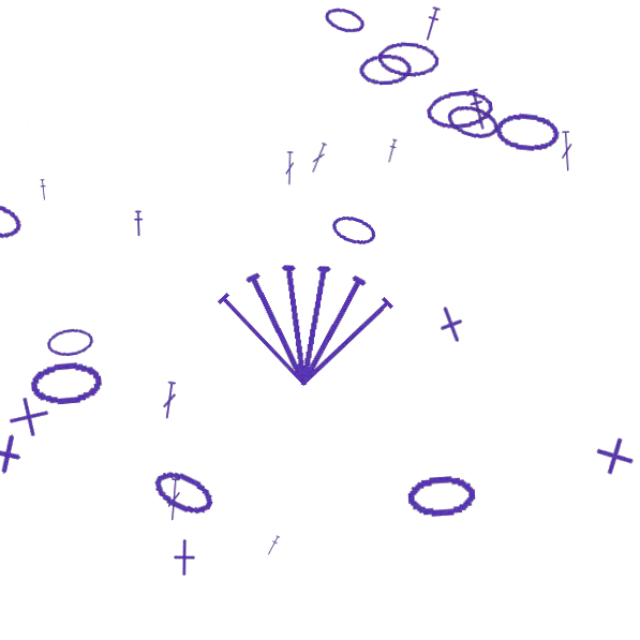chain: (172, 455, 239, 510), (61, 358, 131, 402), (413, 464, 481, 508), (431, 104, 496, 147), (495, 126, 559, 167), (1, 207, 59, 250), (448, 116, 504, 158), (386, 60, 445, 97), (341, 220, 389, 256), (369, 72, 419, 103), (77, 327, 124, 357), (335, 26, 377, 58)
double: (189, 469, 205, 509), (322, 155, 342, 186), (185, 378, 201, 415), (556, 145, 571, 183), (300, 164, 310, 196)
fan: (232, 253, 407, 386)
half_double: (469, 104, 493, 146), (427, 28, 448, 63), (394, 152, 407, 176), (282, 522, 297, 542), (159, 219, 169, 244), (71, 190, 80, 210)
single: (35, 385, 88, 438), (584, 424, 632, 472), (18, 423, 65, 470), (432, 302, 479, 349), (189, 525, 225, 561)
